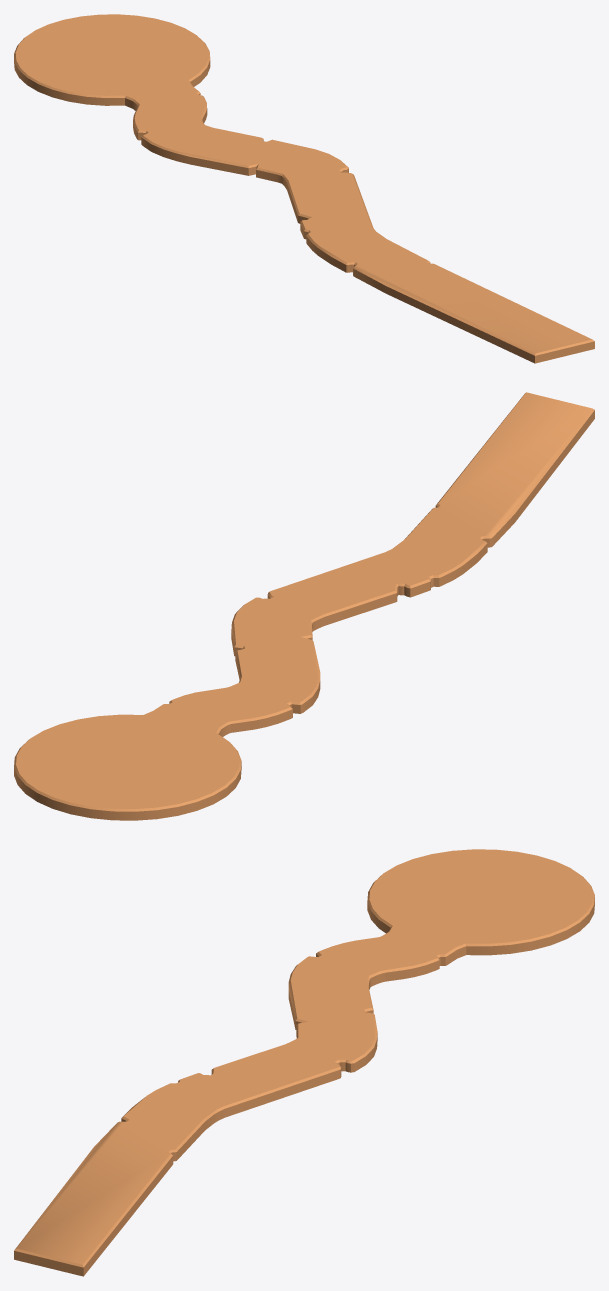
File: mud.fbx
The picture shows the model from 3 angles, top to bottom: view 1: azimuth 30°, elevation 25°; view 2: azimuth 150°, elevation 25°; view 3: azimuth 330°, elevation 25°; orthographic projection. The views are drawn at different scales.
Visible parts, largest first — view 1: road; view 2: road; view 3: road.
Boxes of the visible parts, box(x1,y1,x2,y2) form: road: box(14, 14, 594, 363); road: box(14, 392, 594, 820); road: box(14, 849, 594, 1276).
Size of the model in its own units: 397 by 22.31 by 1866.
